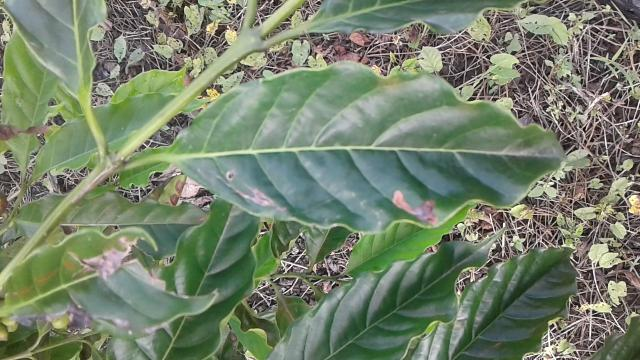red_spider_mite: (170, 60, 564, 234)
